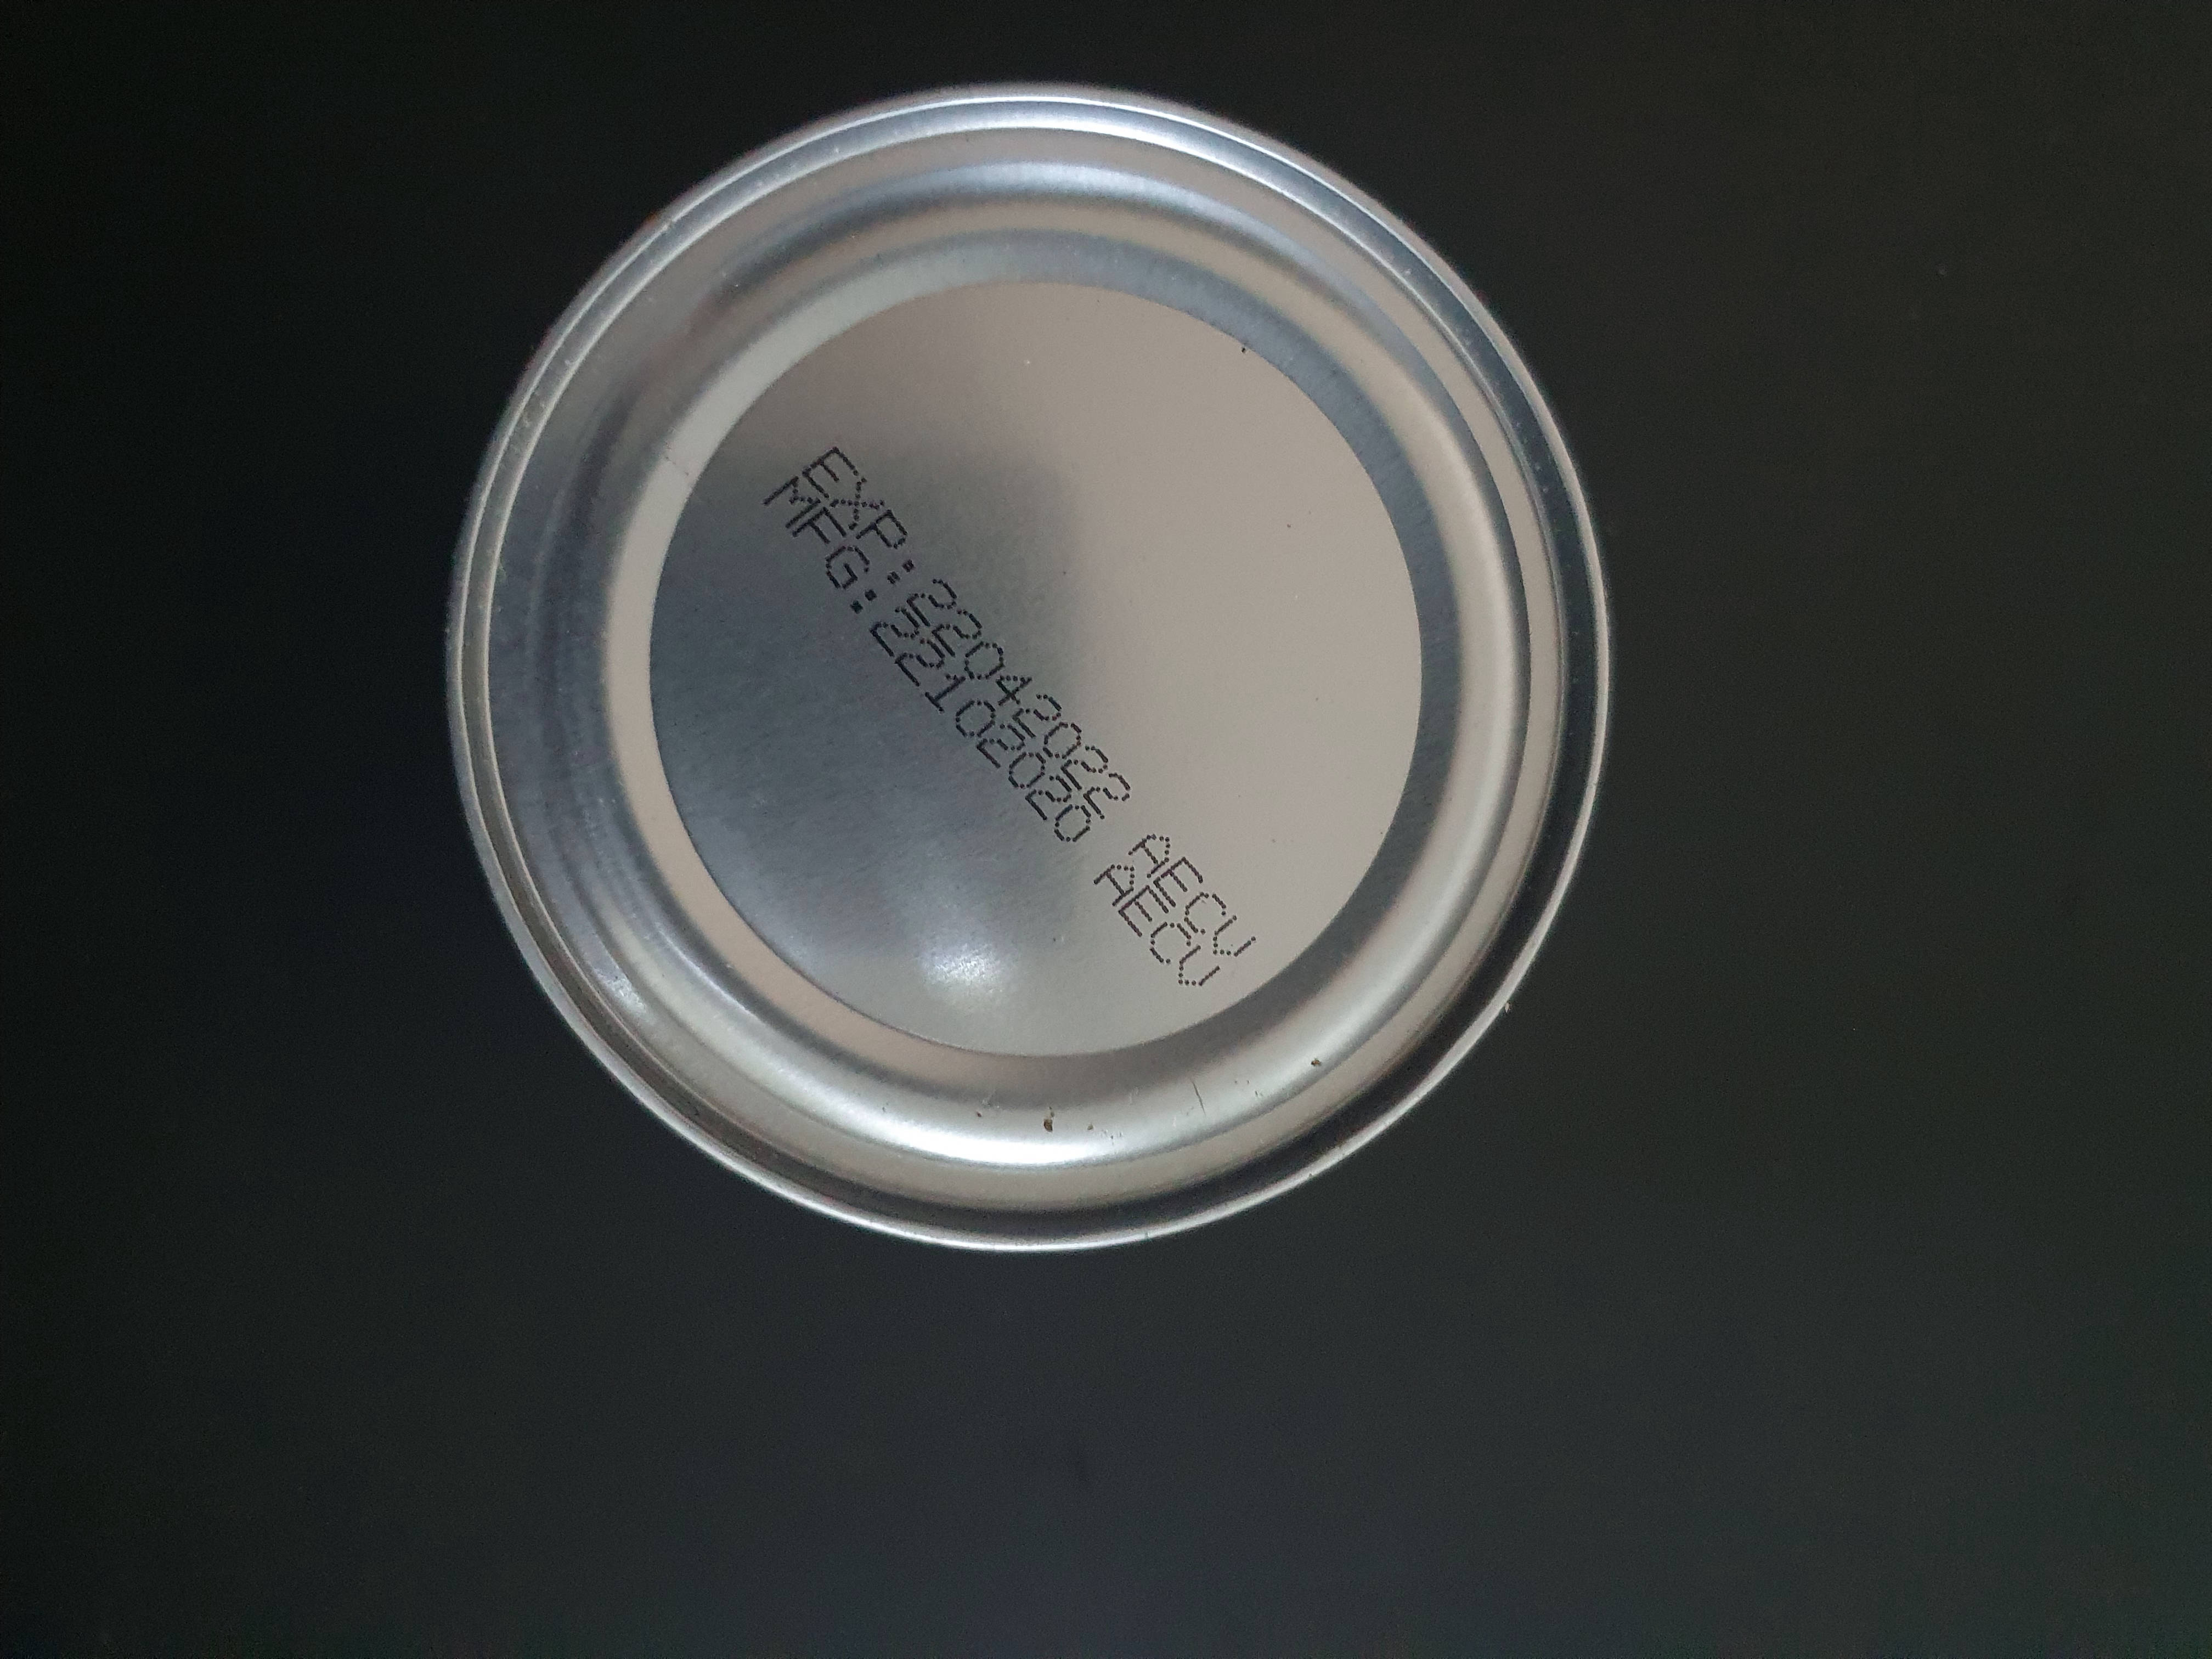metal: (421, 42, 1660, 1345)
